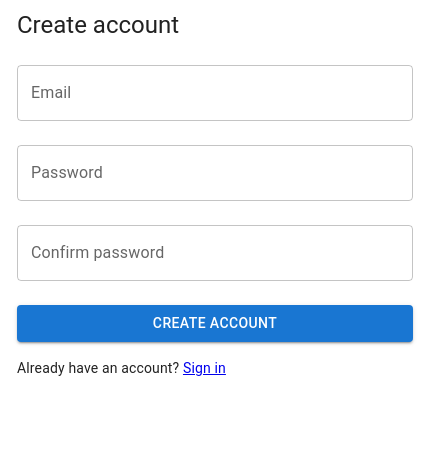
Test: Register › shows the fallback message when the failure is not an Error
The width and height of the screenshot is (431, 457).
Type "new@example.com" into the field labelled "Email".
click(215, 93); type("new@example.com")  # box [17, 65, 413, 121]
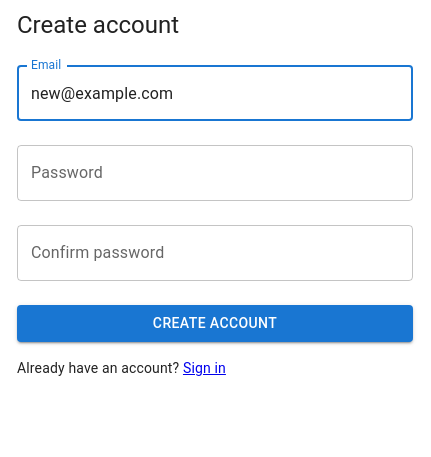
Type "password123" into the password field labelled "Password".
click(215, 173); type("password123")  # box [17, 145, 413, 201]
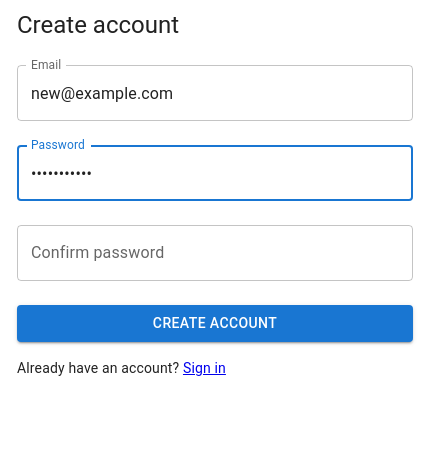
Type "password123" into the password field labelled "Confirm password".
click(215, 253); type("password123")  # box [17, 225, 413, 281]
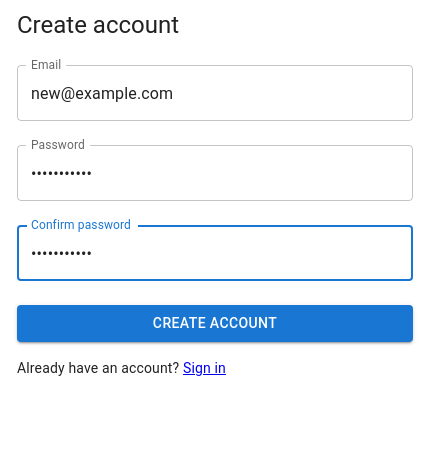
Click the button "Create account".
click(215, 324)  # box [17, 305, 413, 342]
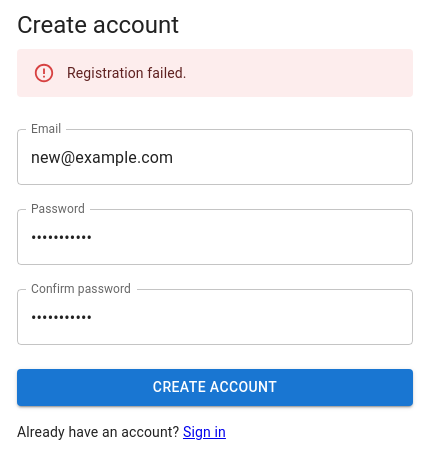
Result: the message reads "Registration failed." at [67, 65, 187, 81]
